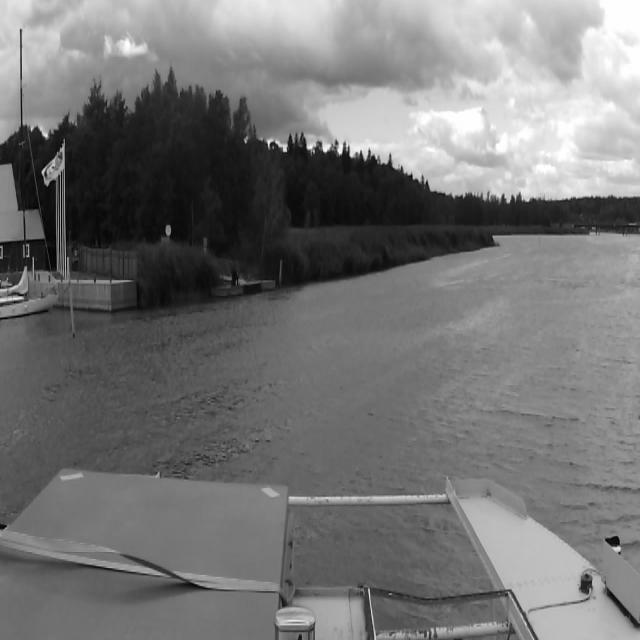buoy: (67, 271, 75, 338)
ship: (0, 29, 60, 321)
